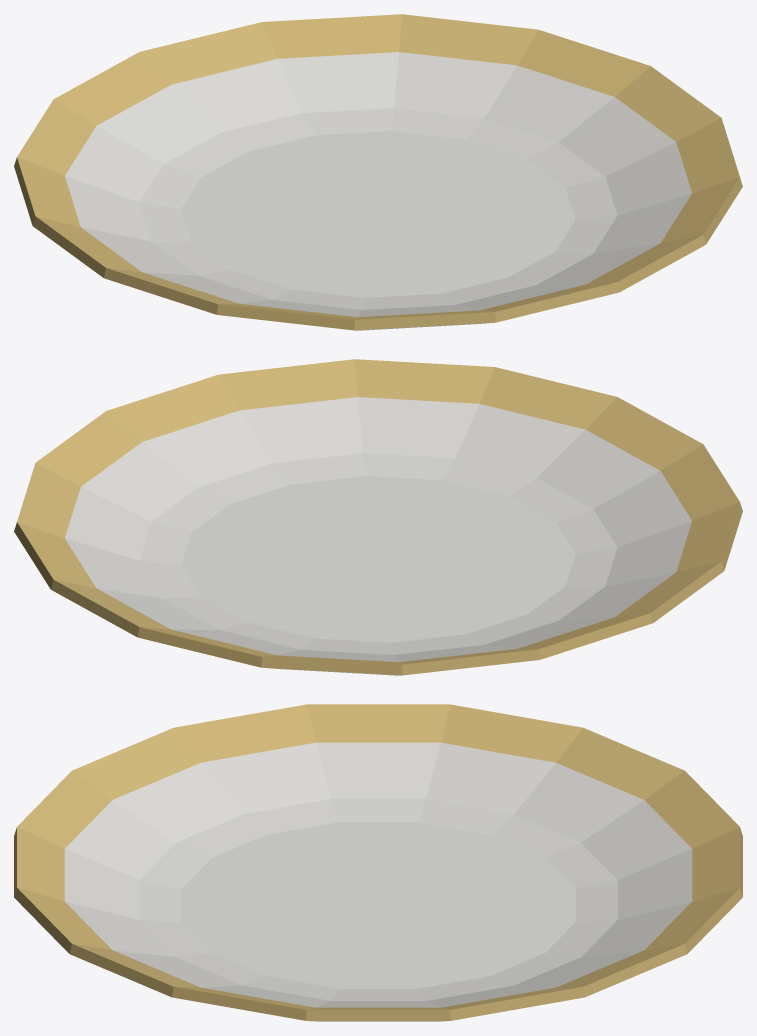
The model's file is plato.fbx.
3 views of the same model, one above another, from view 1: azimuth 30°, elevation 25°; view 2: azimuth 150°, elevation 25°; view 3: azimuth 270°, elevation 25° (orthographic).
Parts seen in each view (by area): view 1: plato; view 2: plato; view 3: plato.
Part boxes in pixels (x1,y1,x2,y2): plato: (14,14,742,330); plato: (14,359,742,675); plato: (14,704,742,1021).
Bounding box in the file's own units: 23.93 × 2.75 × 23.93.
